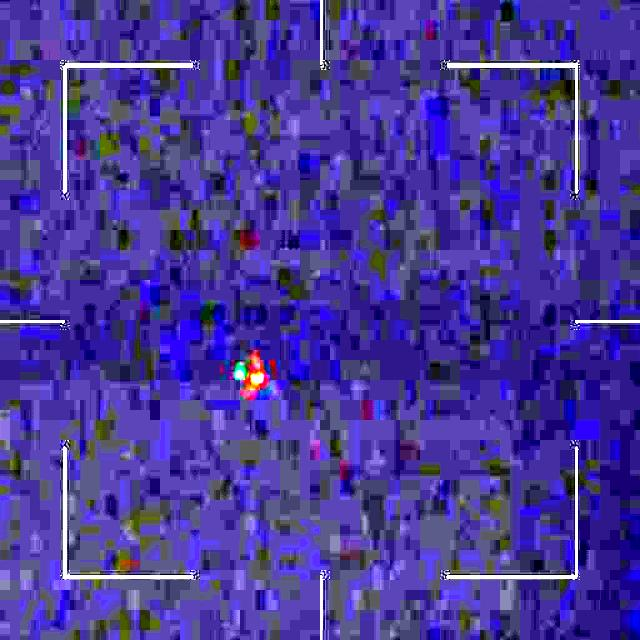bird: (234, 352, 266, 405)
